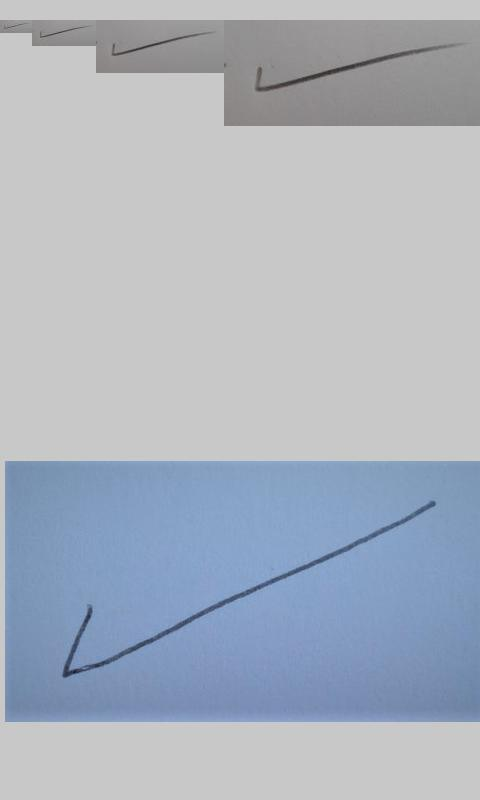check_box: (61, 502, 435, 678), (254, 42, 458, 92), (111, 32, 210, 56), (39, 26, 87, 38), (3, 22, 28, 29)
